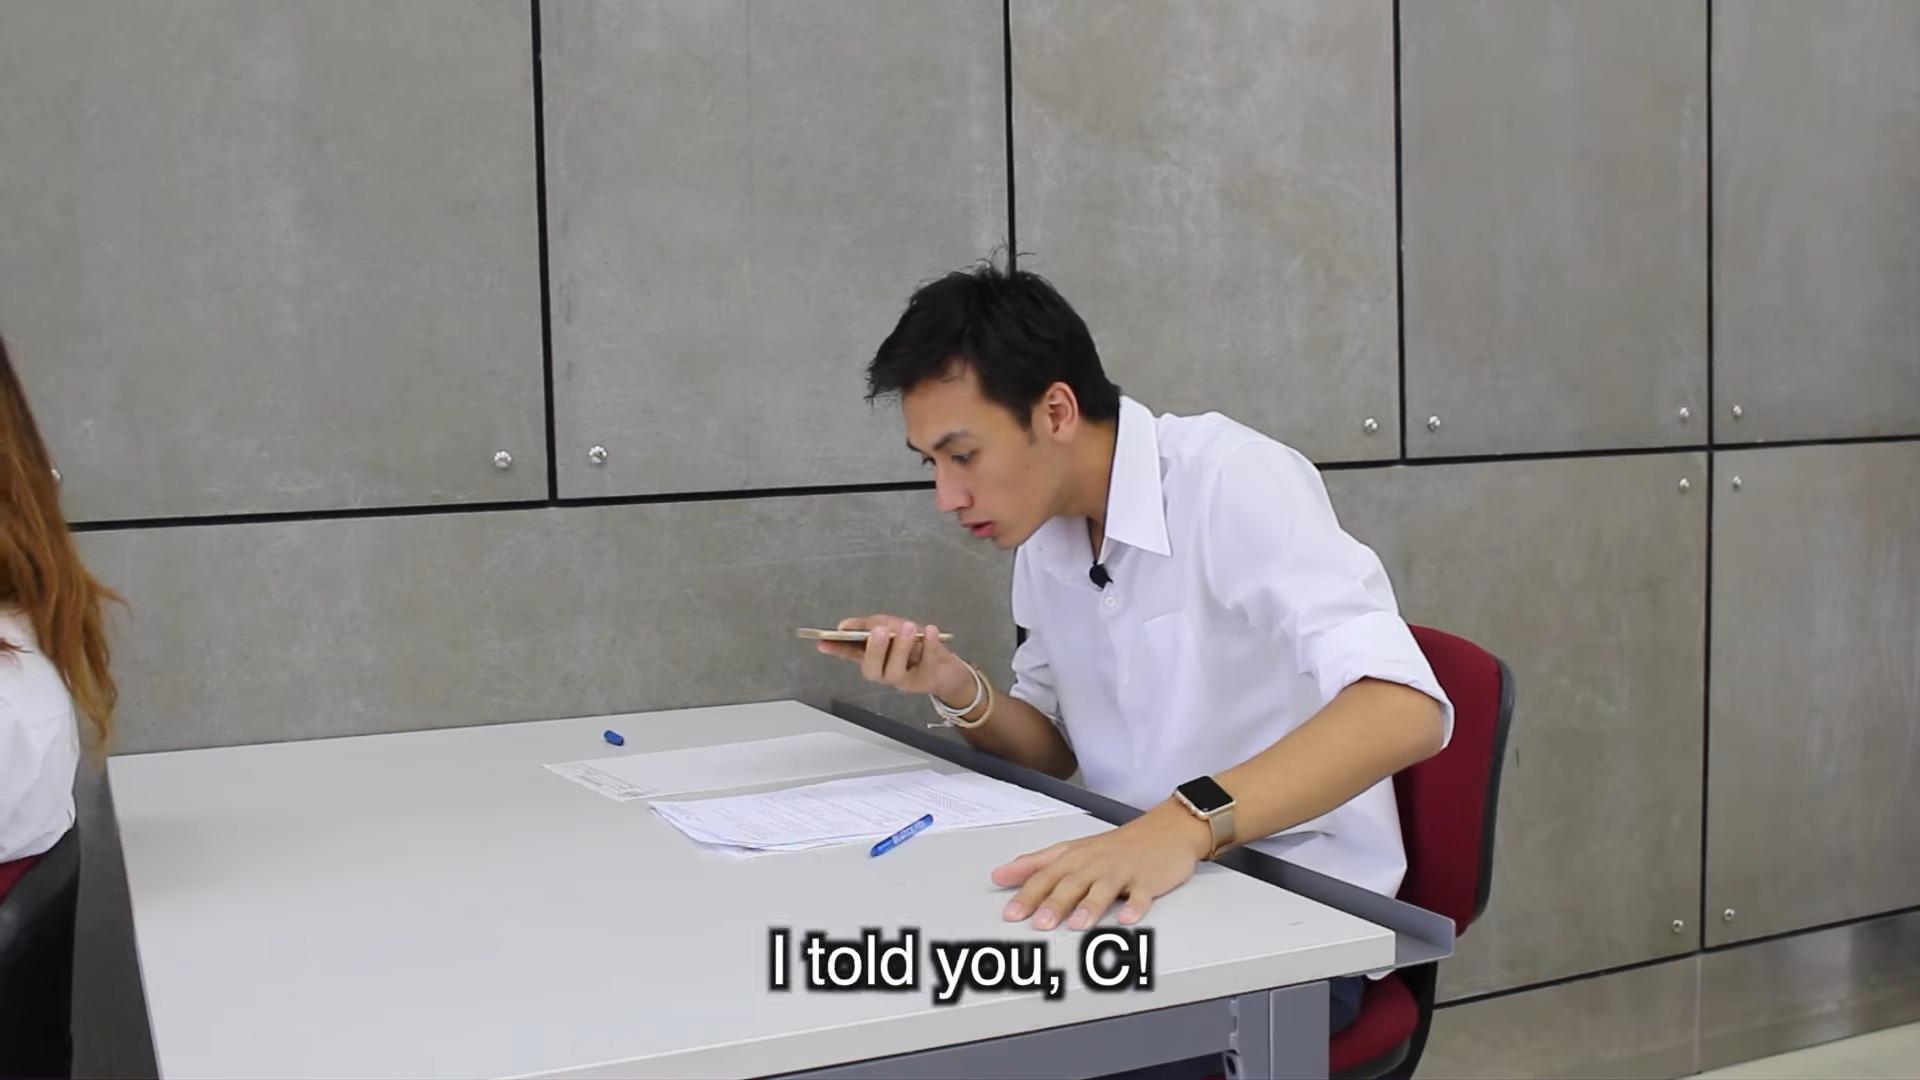cheating: (530, 240, 1481, 919)
